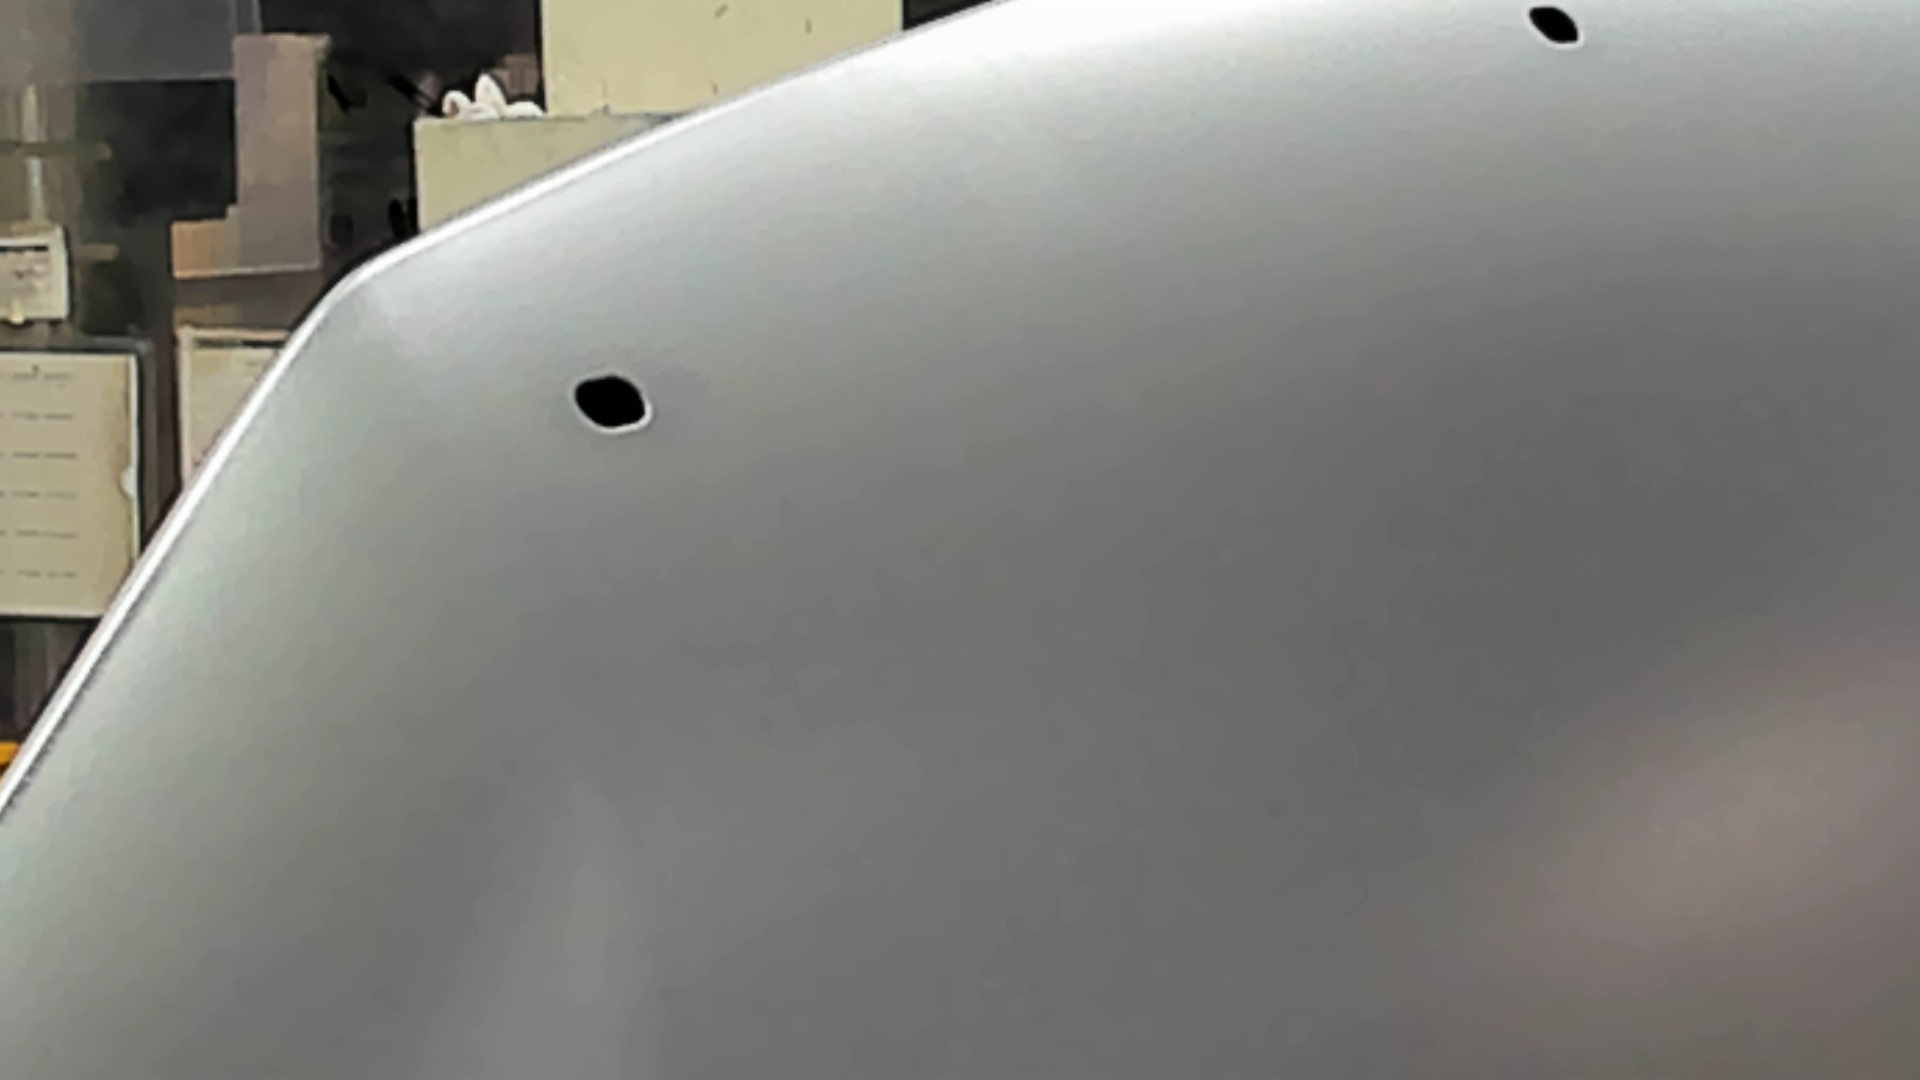amorfo: (568, 372, 659, 436), (1514, 1, 1592, 55)
capo: (748, 131, 1920, 1080)
